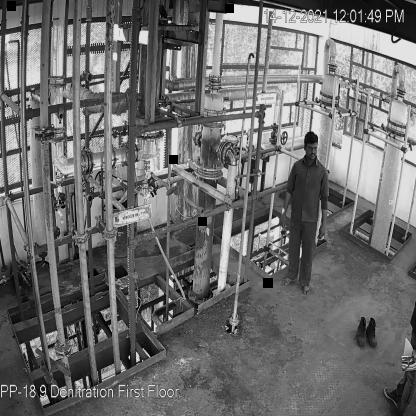no_shoes: (280, 276, 298, 286), (300, 284, 311, 297)
shoes: (355, 316, 370, 349), (367, 318, 379, 347)
